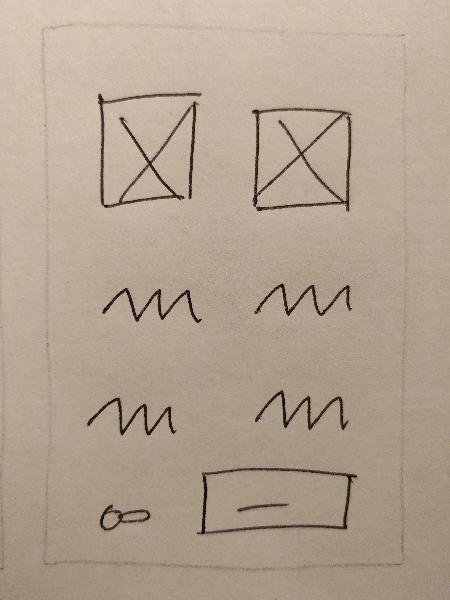button: (188, 457, 362, 545)
image: (84, 82, 213, 210), (237, 93, 361, 219)
switch: (84, 490, 164, 539)
text: (240, 373, 357, 444), (243, 266, 359, 335), (90, 270, 207, 336), (72, 381, 187, 445)
